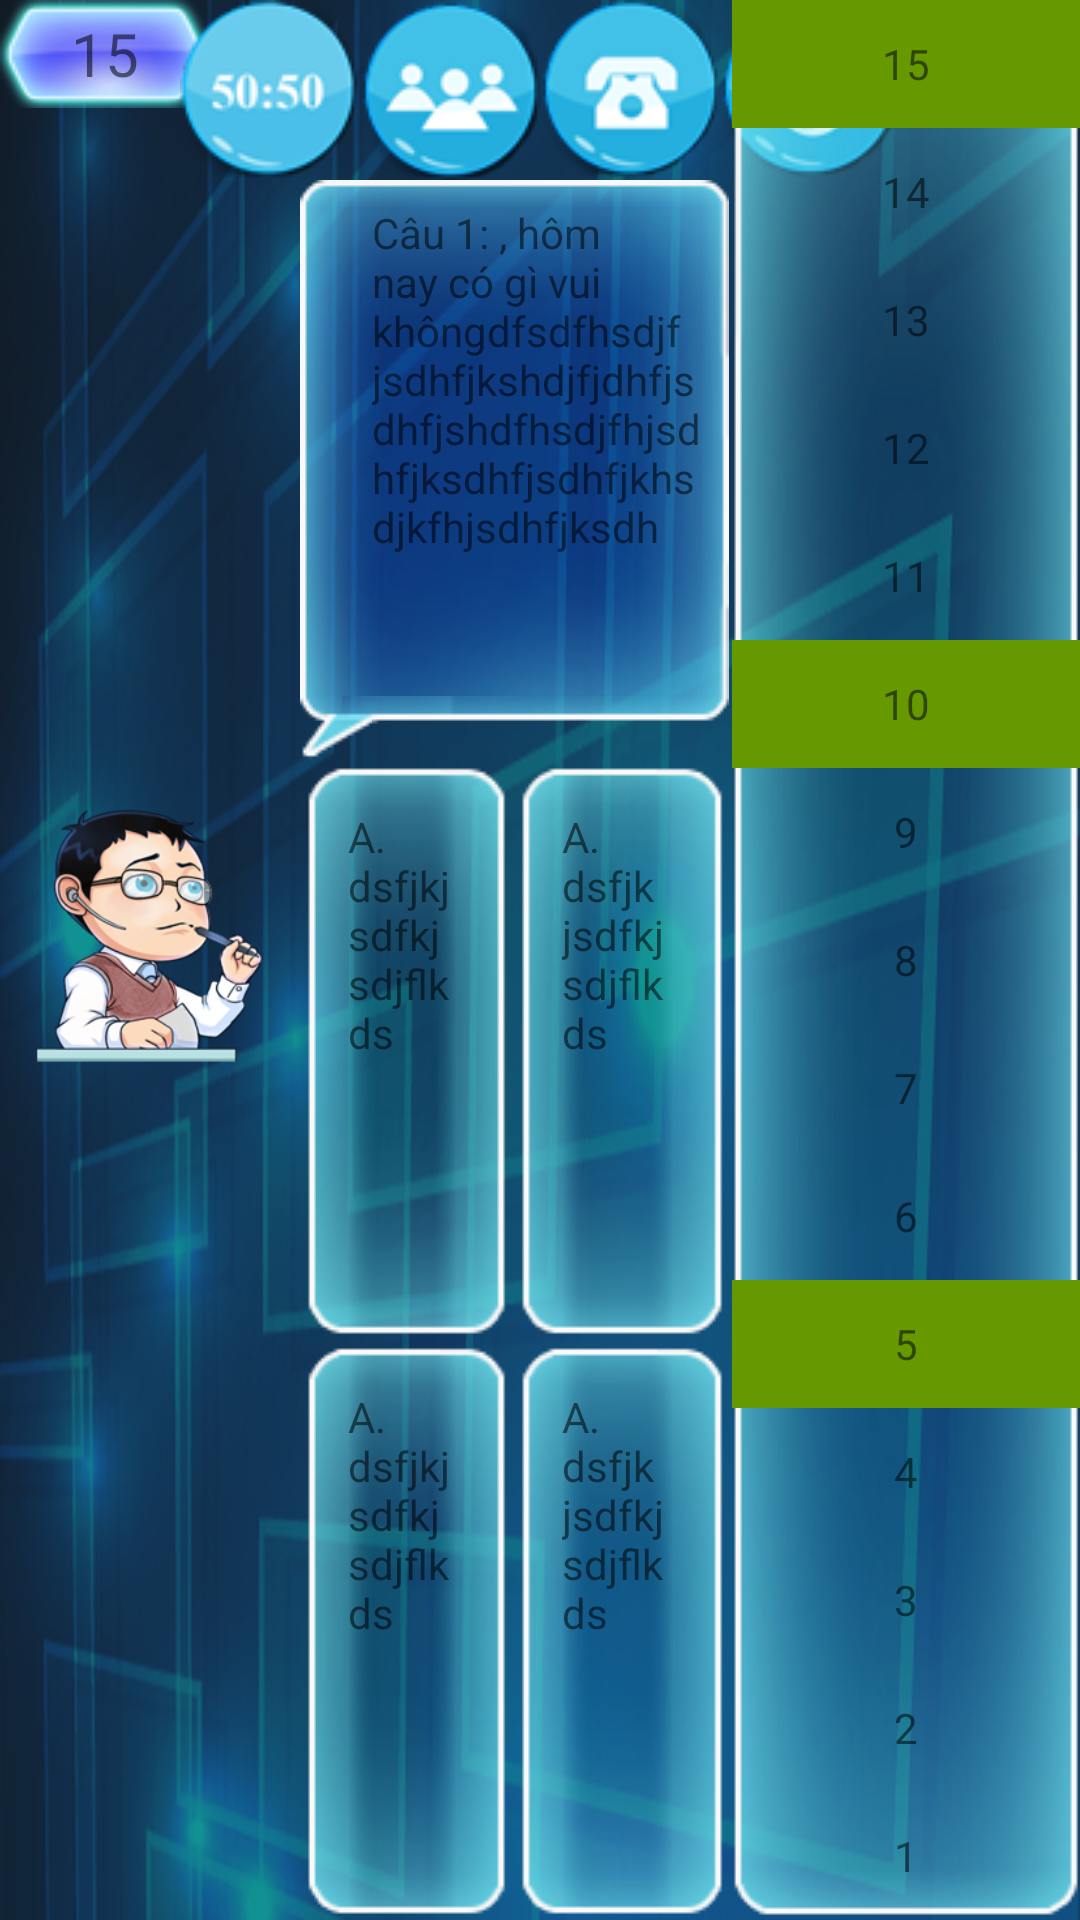

Point at icon controls on the screen. Image size 1080 × 1920, points as point (x, y).
hoikhangia: point (451, 89)
nguoithan: point (630, 90)
suyluan: point (150, 960)
